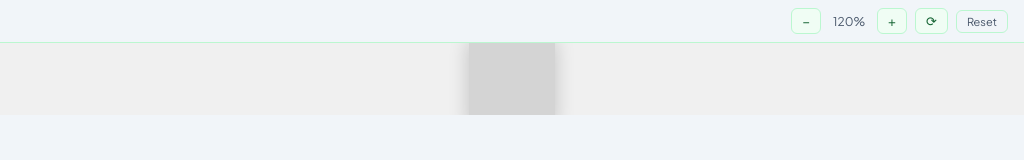
Scenario: SecureDocViewer — image › clic Reset remet le zoom à 100%
What coordinates should you click on to do the following:
click the button "+"
I would click on:
 (892, 21)
Its box is [877,8,907,34].
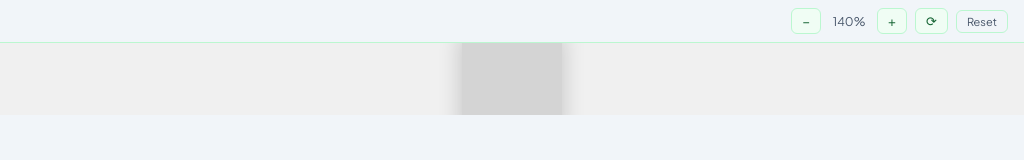
What coordinates should you click on to do the following:
click the button "+"
I would click on:
 (892, 21)
Its box is [877,8,907,34].
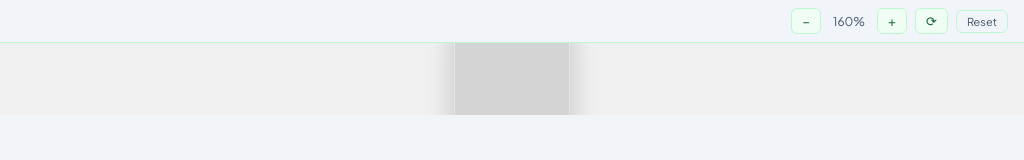
What coordinates should you click on to do the following:
click the button "Reset"
I would click on:
 (982, 21)
Its box is [956,10,1008,32].
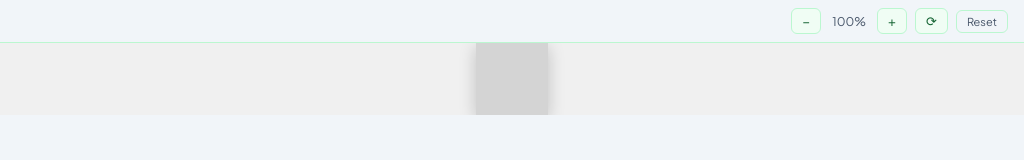
Expected: the text "100%" is shown, [832,14,866,28]
